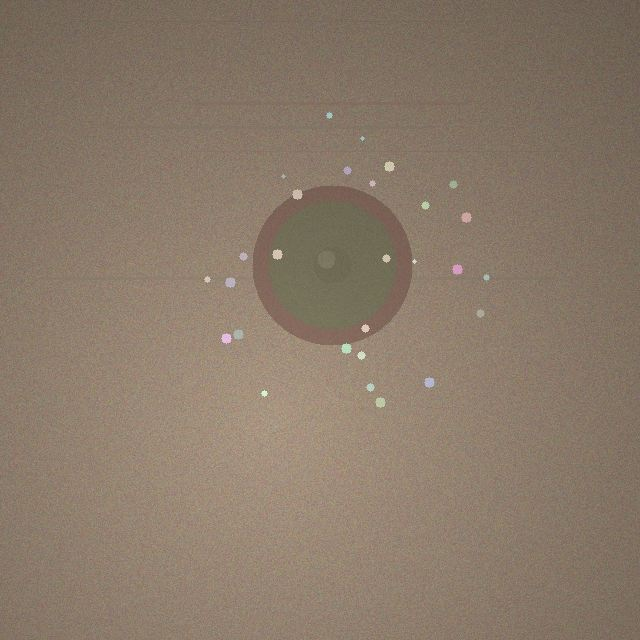overburn: (252, 185, 412, 345)
